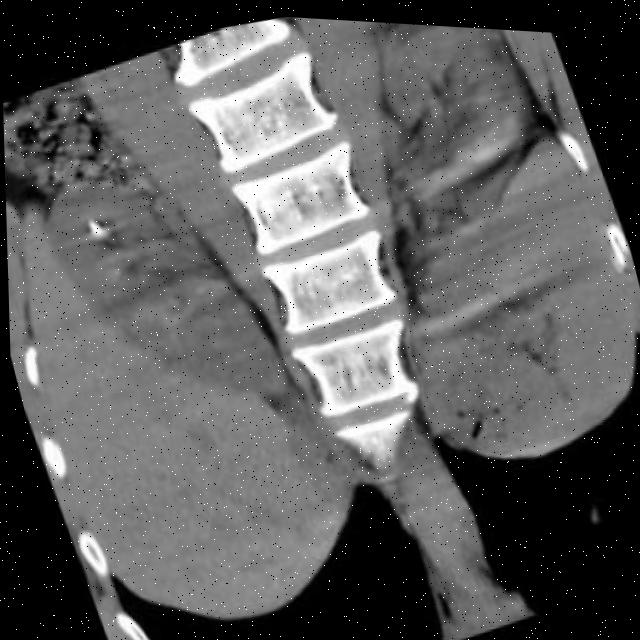Tas_Var: (80, 214, 104, 242), (108, 265, 120, 280)
